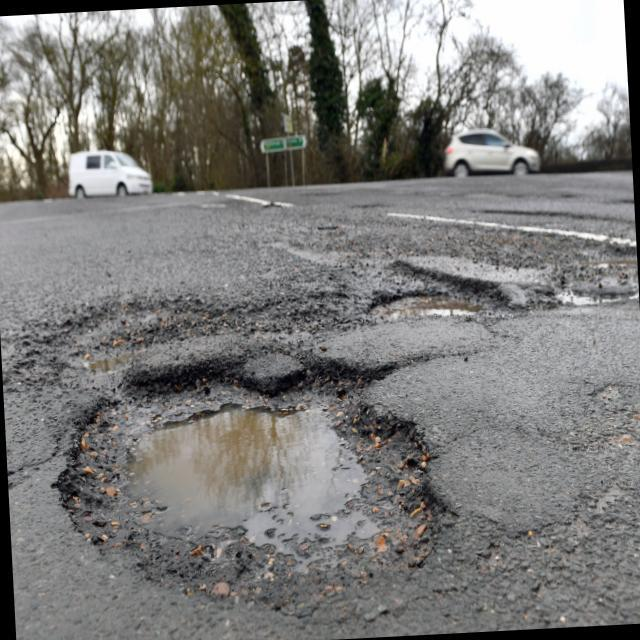Pothole: (42, 342, 460, 601), (14, 278, 295, 376), (360, 260, 526, 372), (534, 240, 640, 320)
